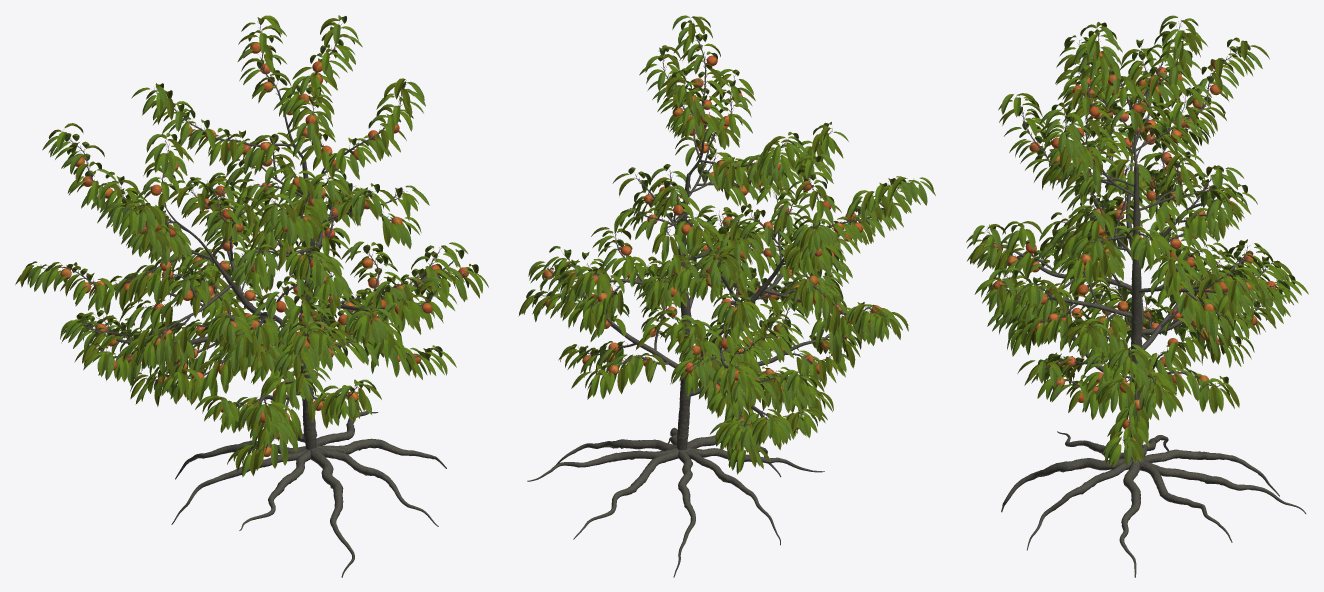
File: FBX_BS16_PrunusPersica_2 1.fbx
3 views of the same model, side by side, from view 1: azimuth 30°, elevation 25°; view 2: azimuth 150°, elevation 25°; view 3: azimuth 270°, elevation 25° (orthographic). The views are drawn at different scales.
Parts seen in each view (by area): view 1: Leaf01_2, Leaf02_2, Leaf03_2, Bark01_2, Fruit01_2; view 2: Leaf01_2, Leaf02_2, Leaf03_2, Bark01_2, Fruit01_2; view 3: Leaf01_2, Leaf02_2, Leaf03_2, Bark01_2, Fruit01_2.
Part boxes in pixels (box(x1,y1,x2,y2)): Leaf01_2: box(25, 15, 482, 477); Leaf02_2: box(25, 15, 488, 468); Leaf03_2: box(15, 17, 479, 475); Bark01_2: box(36, 19, 468, 577); Fruit01_2: box(60, 42, 468, 456); Leaf01_2: box(523, 20, 922, 471); Leaf02_2: box(522, 15, 935, 468); Leaf03_2: box(518, 16, 908, 474); Bark01_2: box(527, 19, 916, 577); Fruit01_2: box(543, 55, 881, 429); Leaf01_2: box(966, 18, 1308, 467); Leaf02_2: box(972, 15, 1298, 465); Leaf03_2: box(970, 20, 1291, 462); Bark01_2: box(984, 22, 1306, 577); Fruit01_2: box(993, 52, 1275, 440).
Bounding box in the file's own units: 536 × 604 × 370.
